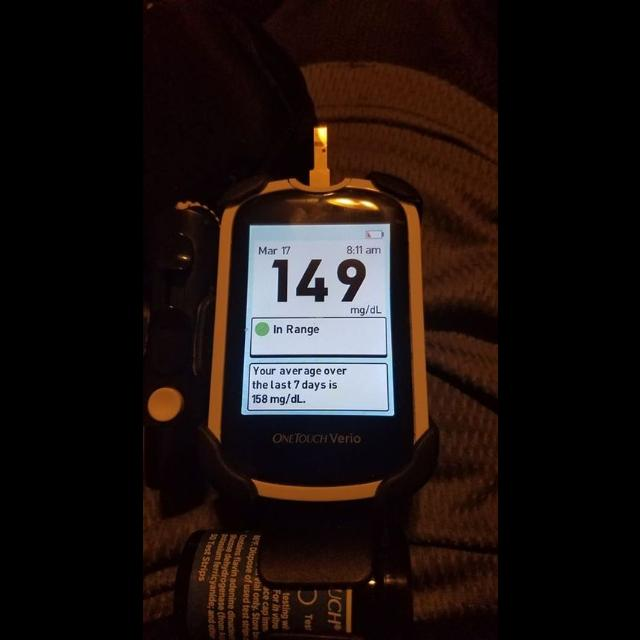Glucose-Meter: (207, 128, 428, 501)
